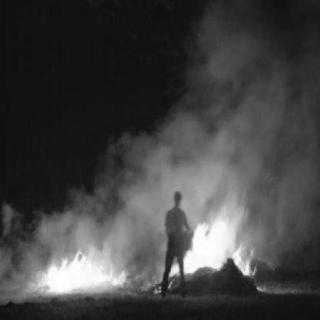Fire: (34, 237, 128, 293)
